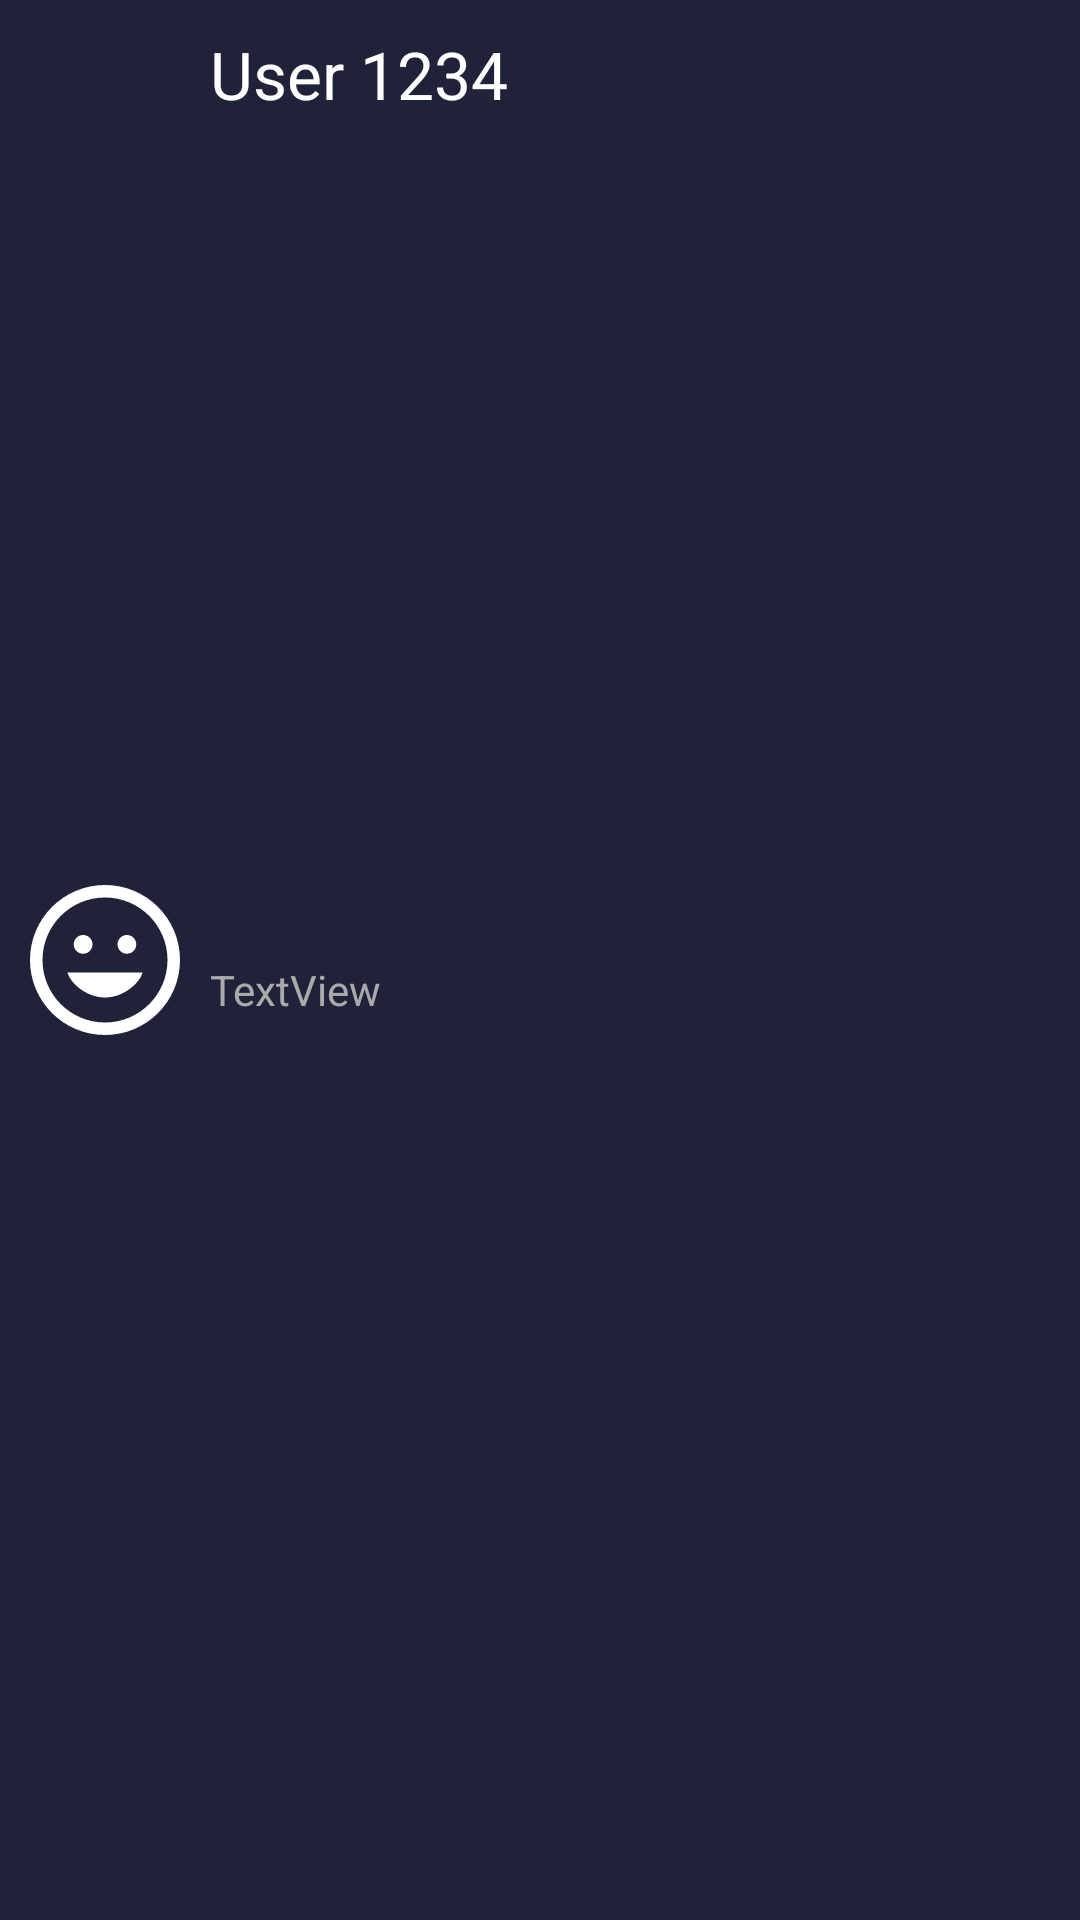

Screen size 1080 x 1920. Icon name, then its center in pixels as (x=x, y=y):
smiley happy: (x=105, y=960)
